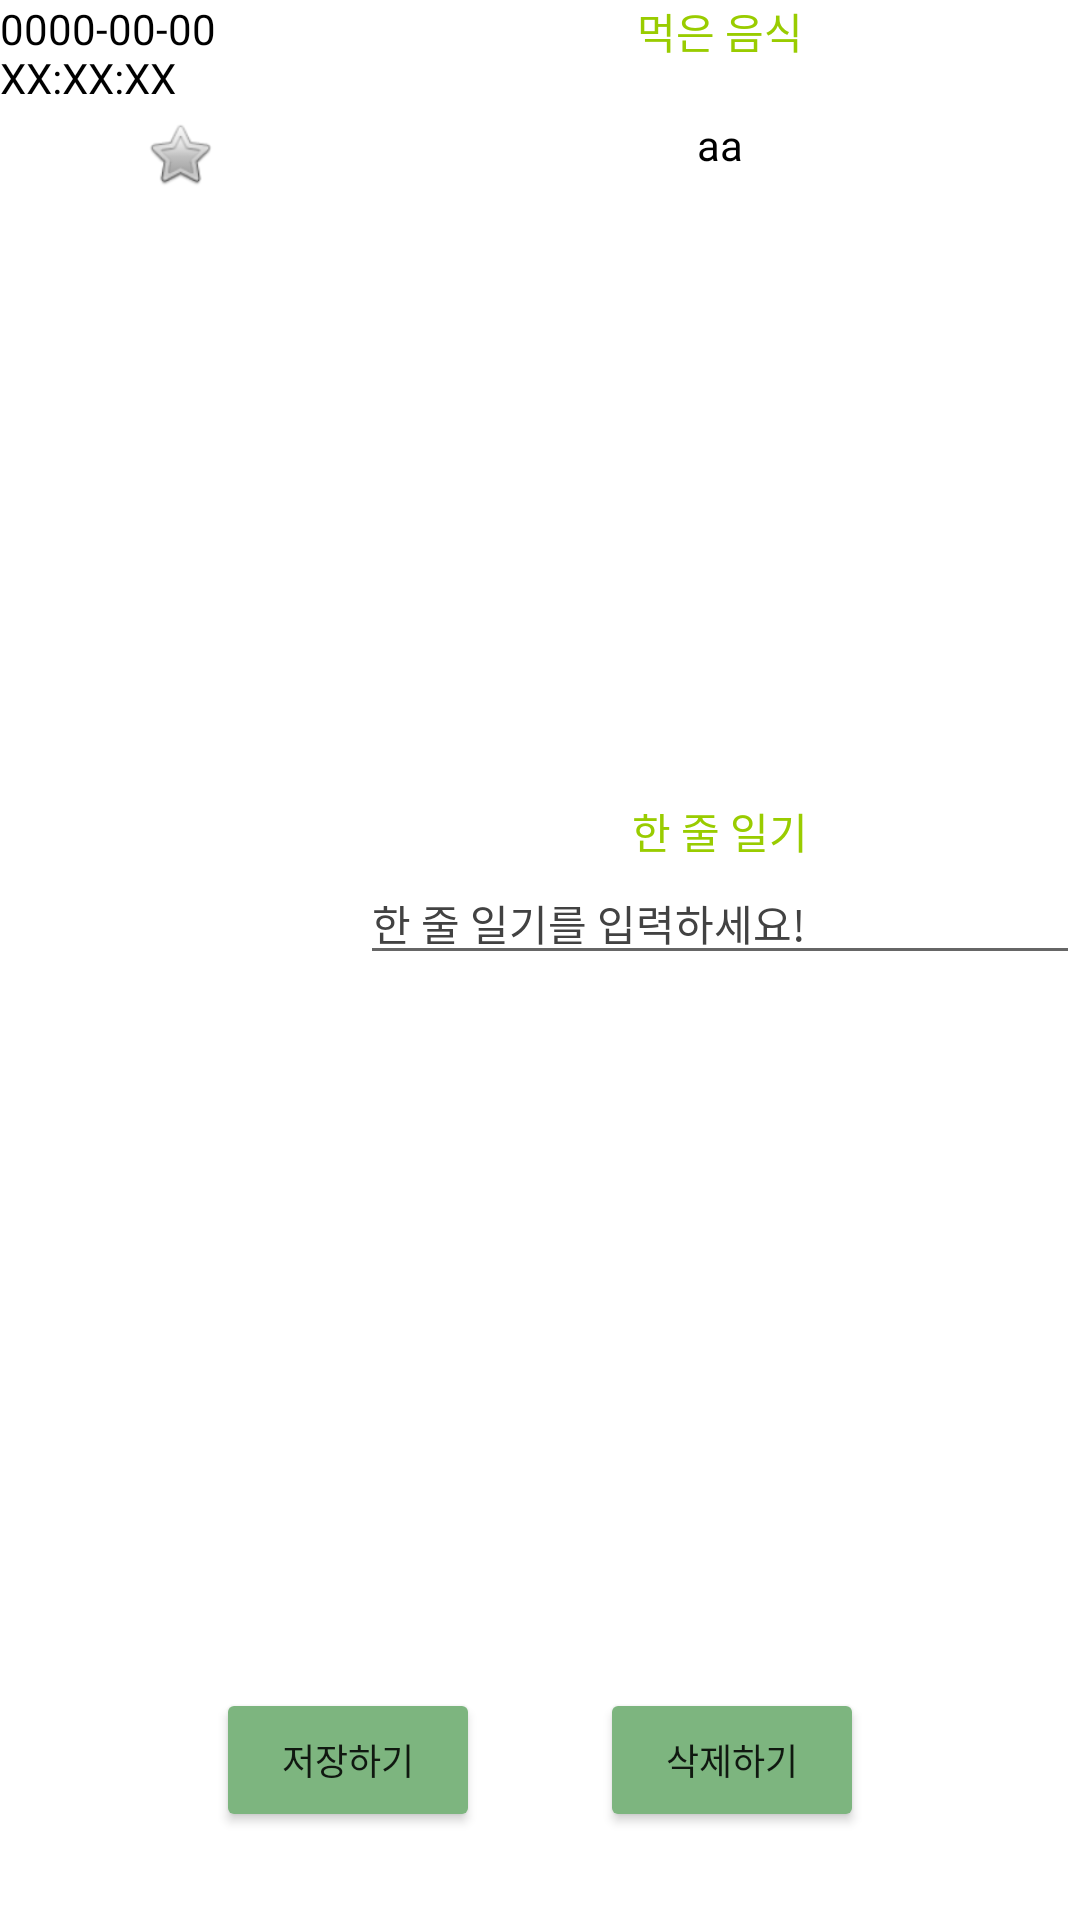

Named icons in this screenshot (1080x1920) and their centers, [x,y]:
star off: [181,154]
